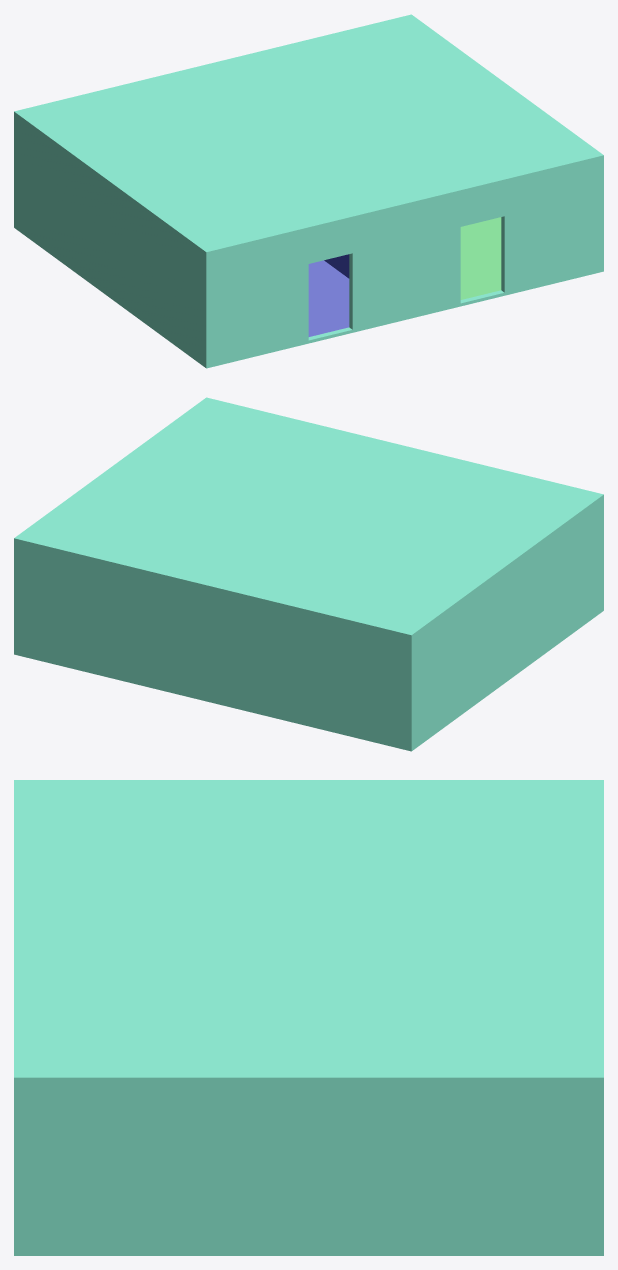
File: ShowRoomRestrooms.FBX
The picture shows the model from 3 angles, top to bottom: view 1: azimuth 30°, elevation 25°; view 2: azimuth 150°, elevation 25°; view 3: azimuth 270°, elevation 25°; orthographic projection. The views are drawn at different scales.
Visible parts, largest first — view 1: Restrooms; view 2: Restrooms; view 3: Restrooms.
Part boxes in pixels (bbox=[...]): Restrooms: bbox=[14, 14, 603, 368]; Restrooms: bbox=[14, 397, 603, 751]; Restrooms: bbox=[14, 780, 603, 1255].
Size of the model in its own units: 1360 by 380 by 1140.
